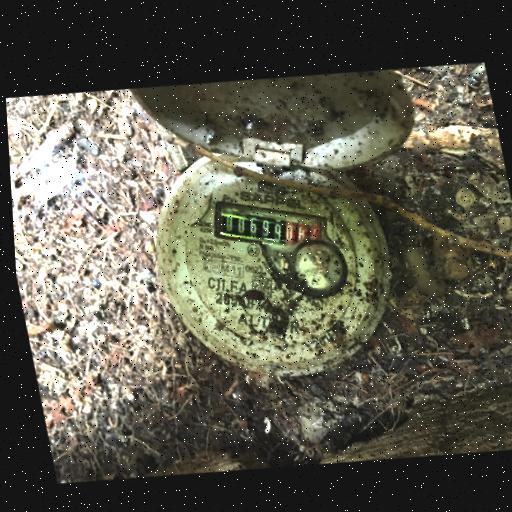0: (280, 219, 300, 247), (220, 210, 239, 237), (232, 212, 251, 238)
4: (307, 223, 324, 243)
6: (244, 213, 264, 240)
8: (292, 221, 312, 247)
9: (256, 215, 275, 243), (268, 217, 287, 245)
border_water_meter_number: (210, 186, 344, 270)
